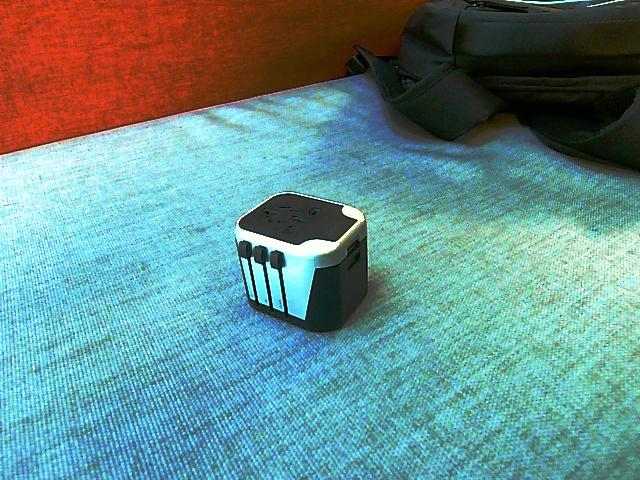adapter: (232, 190, 368, 332)
